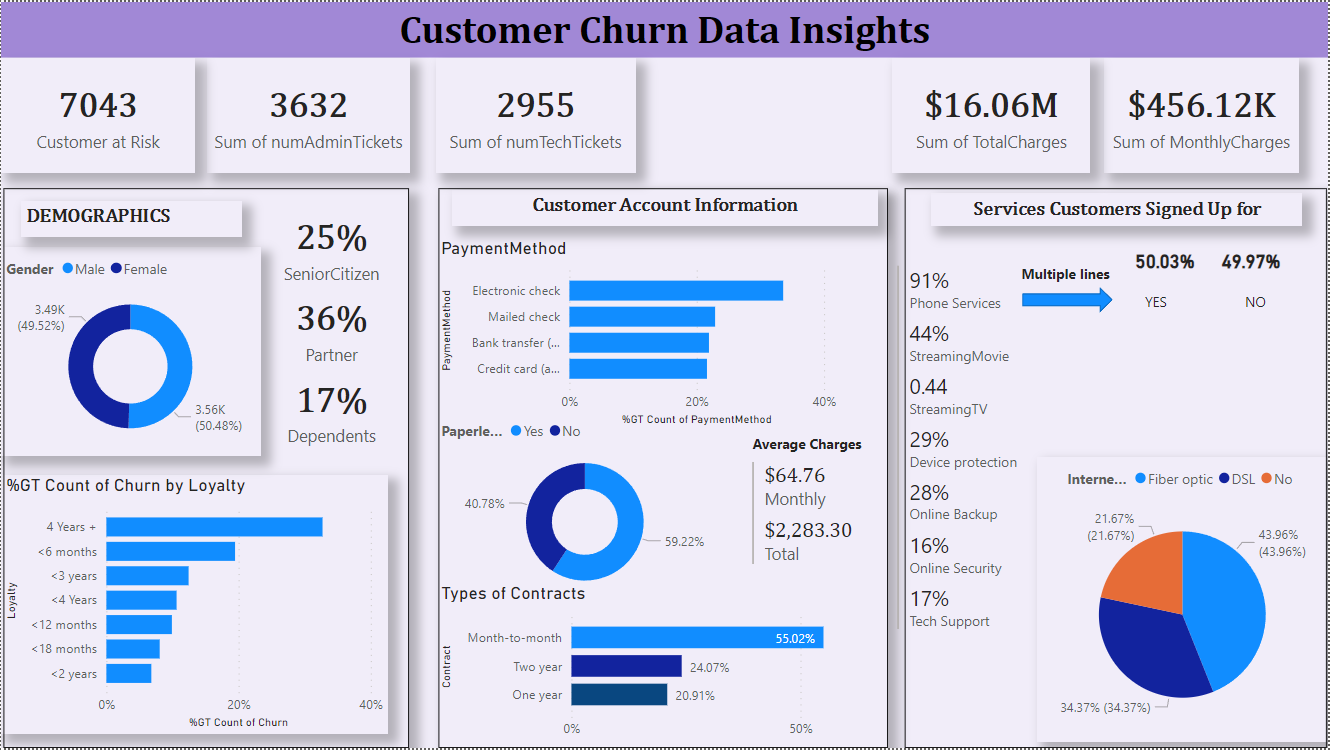

Layout of this report page (visuals, bound fields, positions):
{"tool":"powerbi","page":{"name":"Page 1","canvas":[1280,720],"ordinal":0},"visuals":[{"type":"card","fields":{"Values":["Sum(01 Churn-Dataset.numAdminTickets)"]},"box":[198.8,53.8,195,110],"z":0},{"type":"card","fields":{"Values":["Sum(01 Churn-Dataset.MonthlyCharges)"]},"box":[1063.8,53.8,188.8,110],"z":1},{"type":"card","fields":{"Values":["Count(01 Churn-Dataset.customerID)"]},"box":[0,53.8,187.5,110],"z":2},{"type":"card","fields":{"Values":["Sum(01 Churn-Dataset.numTechTickets)"]},"box":[420,53.8,192.5,110],"z":3},{"type":"card","fields":{"Values":["Sum(01 Churn-Dataset.TotalCharges)"]},"box":[860,53.8,191.2,110],"z":4},{"type":"textbox","box":[0,0,1280.6,53.5],"z":5},{"type":"donutChart","fields":{"Y":["CountNonNull(01 Churn-Dataset.gender)"],"Category":["01 Churn-Dataset.gender"]},"box":[0,236.2,250,201.2],"z":6},{"type":"card","fields":{"Values":["01 Churn-Dataset.% of SeniorCitizen"]},"box":[263.8,191.2,110,90],"z":7},{"type":"card","fields":{"Values":["01 Churn-Dataset.Partner in %"]},"box":[263.8,268.8,110,91.2],"z":8},{"type":"card","fields":{"Values":["01 Churn-Dataset.% of Dependents"]},"box":[263.8,348.8,110,90],"z":9},{"type":"barChart","fields":{"Category":["01 Churn-Dataset.Loyalty"],"Y":["CountNonNull(01 Churn-Dataset.Churn)"]},"box":[0,456.2,373.8,250],"z":10},{"type":"textbox","box":[422.5,180,433.8,540],"z":11},{"type":"clusteredBarChart","title":"PaymentMethod","fields":{"Category":["01 Churn-Dataset.PaymentMethod"],"Y":["CountNonNull(01 Churn-Dataset.PaymentMethod)"]},"box":[420,226.2,391.2,186.2],"z":12},{"type":"donutChart","title":"Paperless Billing","fields":{"Category":["01 Churn-Dataset.PaperlessBilling"],"Y":["CountNonNull(01 Churn-Dataset.PaperlessBilling)"]},"box":[420,393.8,287.5,187.5],"z":13},{"type":"multiRowCard","fields":{"Values":["Avg(01 Churn-Dataset.MonthlyCharges)","Avg(01 Churn-Dataset.TotalCharges)"]},"box":[720,438.8,152.5,157.5],"z":14},{"type":"clusteredBarChart","title":"Types of Contracts","fields":{"Category":["01 Churn-Dataset.Contract"],"Y":["Divide(CountNonNull(01 Churn-Dataset.Contract), ScopedEval(CountNonNull(01 Churn-Dataset.Contract), []))"]},"box":[420,560,433.8,160],"z":15},{"type":"textbox","box":[2.5,180,391.2,540],"z":16},{"type":"textbox","box":[18.8,191.2,212.5,35],"z":17},{"type":"textbox","box":[435,181.2,410,35],"z":18},{"type":"textbox","box":[720,412.5,140,43.8],"z":19},{"type":"textbox","box":[872.5,180,407.5,540],"z":20},{"type":"multiRowCard","fields":{"Values":["01 Churn-Dataset.Phone Services in %","01 Churn-Dataset.StreamingMovie in %","01 Churn-Dataset.StreamingTV in %","01 Churn-Dataset.Device protection in %","01 Churn-Dataset.Online Backup in %","01 Churn-Dataset.Online Security in %","01 Churn-Dataset.Tech Support"]},"box":[860,250,156.2,470],"z":21},{"type":"pieChart","fields":{"Category":["01 Churn-Dataset.InternetService"],"Y":["CountNonNull(01 Churn-Dataset.InternetService)"]},"box":[1000,438.8,280,275],"z":22},{"type":"card","fields":{"Values":["01 Churn-Dataset.Multiple lines no in %"]},"box":[1171.2,216.2,70,70],"z":23},{"type":"card","fields":{"Values":["01 Churn-Dataset.Multiple Lines yes in %"]},"box":[1087.5,216.2,70,70],"z":24},{"type":"textbox","box":[1098.8,275,58.8,33.8],"z":25},{"type":"textbox","box":[1195,275,61.2,40],"z":26},{"type":"textbox","box":[897.5,185,358.8,31.2],"z":27},{"type":"textbox","box":[978.8,248.8,108.8,32.5],"z":28},{"type":"shape","box":[985,275,87.5,25],"z":29}]}

Visuals, with their boxes in screenshot pixels (x1, y1, x2, y2), scaled from the page's 1280x720 canvas onto the 1330x750 screenshot:
card - Sum(01 Churn-Dataset.numAdminTickets): (207,56,409,171)
card - Sum(01 Churn-Dataset.MonthlyCharges): (1105,56,1302,171)
card - Count(01 Churn-Dataset.customerID): (0,56,195,171)
card - Sum(01 Churn-Dataset.numTechTickets): (436,56,636,171)
card - Sum(01 Churn-Dataset.TotalCharges): (894,56,1092,171)
textbox: (0,0,1329,56)
donutChart - CountNonNull(01 Churn-Dataset.gender) x 01 Churn-Dataset.gender: (0,246,260,456)
card - 01 Churn-Dataset.% of SeniorCitizen: (274,199,388,293)
card - 01 Churn-Dataset.Partner in %: (274,280,388,375)
card - 01 Churn-Dataset.% of Dependents: (274,363,388,457)
barChart - 01 Churn-Dataset.Loyalty x CountNonNull(01 Churn-Dataset.Churn): (0,475,388,736)
textbox: (439,188,890,749)
"PaymentMethod" clusteredBarChart: (436,236,843,430)
"Paperless Billing" donutChart: (436,410,735,606)
multiRowCard - Avg(01 Churn-Dataset.MonthlyCharges) x Avg(01 Churn-Dataset.TotalCharges): (748,457,907,621)
"Types of Contracts" clusteredBarChart: (436,583,887,749)
textbox: (3,188,409,749)
textbox: (20,199,240,236)
textbox: (452,189,878,225)
textbox: (748,430,894,475)
textbox: (907,188,1329,749)
multiRowCard - 01 Churn-Dataset.Phone Services in % x 01 Churn-Dataset.StreamingMovie in %: (894,260,1056,749)
pieChart - 01 Churn-Dataset.InternetService x CountNonNull(01 Churn-Dataset.InternetService): (1039,457,1329,744)
card - 01 Churn-Dataset.Multiple lines no in %: (1217,225,1290,298)
card - 01 Churn-Dataset.Multiple Lines yes in %: (1130,225,1203,298)
textbox: (1142,286,1203,322)
textbox: (1242,286,1305,328)
textbox: (933,193,1305,225)
textbox: (1017,259,1130,293)
shape: (1023,286,1114,312)
